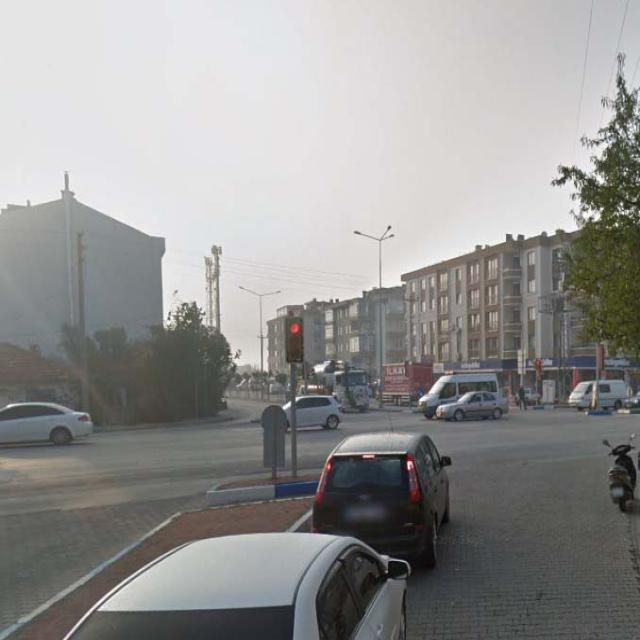kirmizi: (287, 316, 300, 362)
